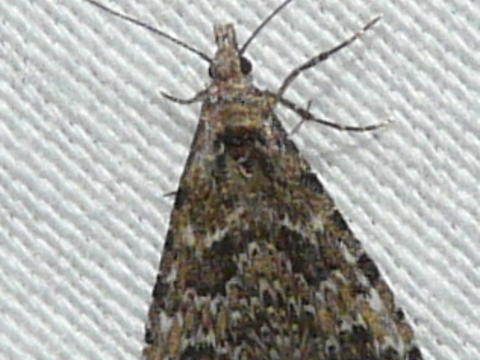Alucitidae: (84, 3, 433, 358)
moth: (86, 5, 435, 360)
